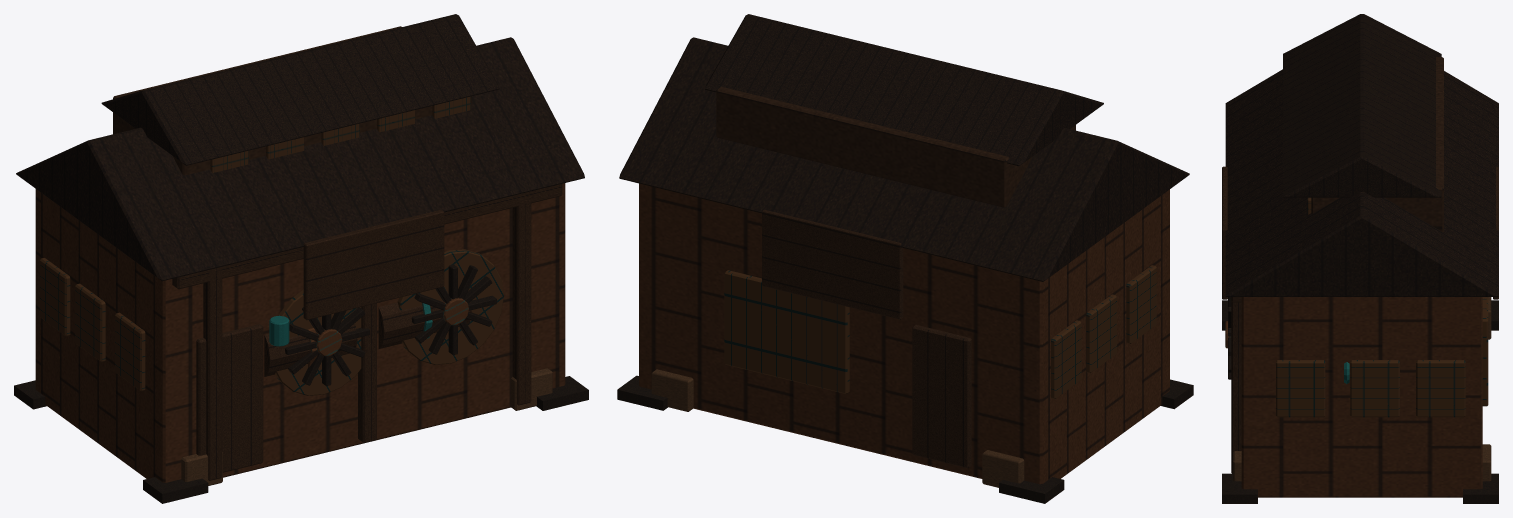
The model's file is dynamo-hall.e7.glb.
The picture shows the model from 3 angles, left to right: view 1: azimuth 30°, elevation 25°; view 2: azimuth 150°, elevation 25°; view 3: azimuth 270°, elevation 25°; orthographic projection. The views are drawn at different scales.
Parts seen in each view (by area): view 1: DynamoHallE7; view 2: DynamoHallE7; view 3: DynamoHallE7.
Boxes of the visible parts, <box> form: DynamoHallE7: <box>14,14,588,503</box>; DynamoHallE7: <box>617,14,1193,503</box>; DynamoHallE7: <box>1222,14,1498,503</box>.
Bounding box in the file's own units: 5.38 × 4.15 × 3.24.
1 material, 1 textured.
